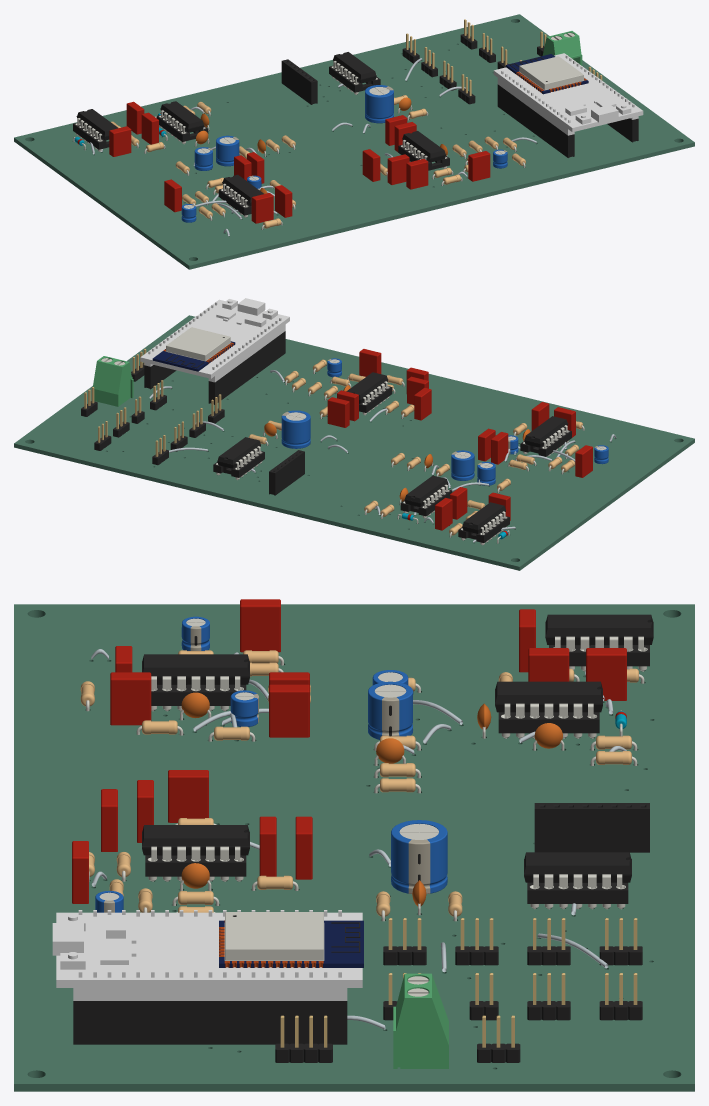
Rendered from ecualizador-placa.glb.
3 views of the same model, one above another, from view 1: azimuth 30°, elevation 25°; view 2: azimuth 150°, elevation 25°; view 3: azimuth 270°, elevation 25° (orthographic). The views are drawn at different scales.
Parts seen in each view (by area): view 1: =>[0:1:1:99], U5 (×4), U6 (×2), U3 (×2), U4 (×2), U1 (×2), J4, C26, J6, U2, C3, C24 (+10 smaller); view 2: =>[0:1:1:99], U5 (×4), J6, U6 (×2), U4 (×2), U1 (×2), U3 (×2), C26, J4, U2, C3, C18 (+6 smaller); view 3: =>[0:1:1:99], U5 (×3), U6 (×2), J4, U3 (×2), U2 (×2), U1 (×2), J6, U4 (×2), C26, C3, C12 (+22 smaller).
Part boxes in pixels (bbox=[...]): =>[0:1:1:99]: bbox=[14, 14, 694, 269]; U5 (×4): bbox=[493, 53, 643, 157]; U6 (×2): bbox=[329, 52, 380, 94]; U3 (×2): bbox=[156, 101, 208, 144]; U4 (×2): bbox=[73, 109, 118, 151]; U1 (×2): bbox=[218, 174, 263, 217]; J4: bbox=[281, 59, 317, 104]; C26: bbox=[365, 85, 393, 123]; J6: bbox=[542, 31, 582, 65]; U2: bbox=[402, 131, 445, 162]; C3: bbox=[216, 135, 239, 166]; C24: bbox=[109, 126, 131, 156]; =>[0:1:1:99]: bbox=[14, 315, 694, 570]; U5 (×4): bbox=[140, 298, 289, 404]; J6: bbox=[93, 356, 133, 406]; U6 (×2): bbox=[213, 437, 264, 480]; U4 (×2): bbox=[458, 502, 509, 545]; U1 (×2): bbox=[520, 416, 571, 459]; U3 (×2): bbox=[400, 475, 452, 518]; C26: bbox=[281, 410, 310, 448]; J4: bbox=[269, 450, 304, 495]; U2: bbox=[346, 372, 388, 404]; C3: bbox=[451, 450, 474, 480]; C18: bbox=[327, 397, 349, 427]; =>[0:1:1:99]: bbox=[14, 604, 694, 1091]; U5 (×3): bbox=[52, 910, 363, 1044]; U6 (×2): bbox=[524, 852, 631, 909]; J4: bbox=[534, 803, 649, 852]; U3 (×2): bbox=[495, 681, 602, 738]; U2 (×2): bbox=[142, 825, 249, 881]; U1 (×2): bbox=[142, 654, 249, 711]; J6: bbox=[393, 973, 448, 1068]; U4 (×2): bbox=[545, 614, 653, 671]; C26: bbox=[391, 820, 447, 894]; C3: bbox=[368, 681, 413, 739]; C12: bbox=[110, 672, 151, 725].
Bounding box in the file's own units: 0.2 × 0.0217 × 0.12.
